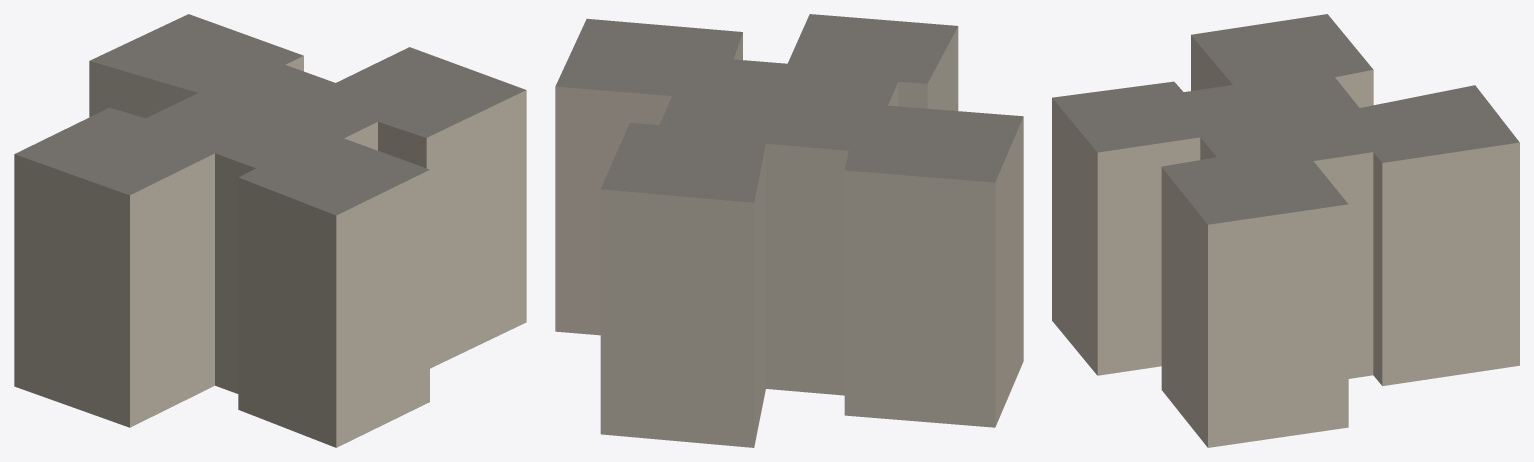
The picture shows the model from 3 angles, left to right: view 1: azimuth 30°, elevation 25°; view 2: azimuth 150°, elevation 25°; view 3: azimuth 270°, elevation 25°; orthographic projection. The views are drawn at different scales.
Visible parts, largest first — view 1: HP-w1435252844; view 2: HP-w1435252844; view 3: HP-w1435252844.
Boxes of the visible parts, x1,y1,x2,y2 form: HP-w1435252844: [14, 14, 526, 447]; HP-w1435252844: [555, 14, 1023, 447]; HP-w1435252844: [1052, 14, 1519, 447].
Bounding box in the file's own units: 36.46 × 18 × 34.18.
